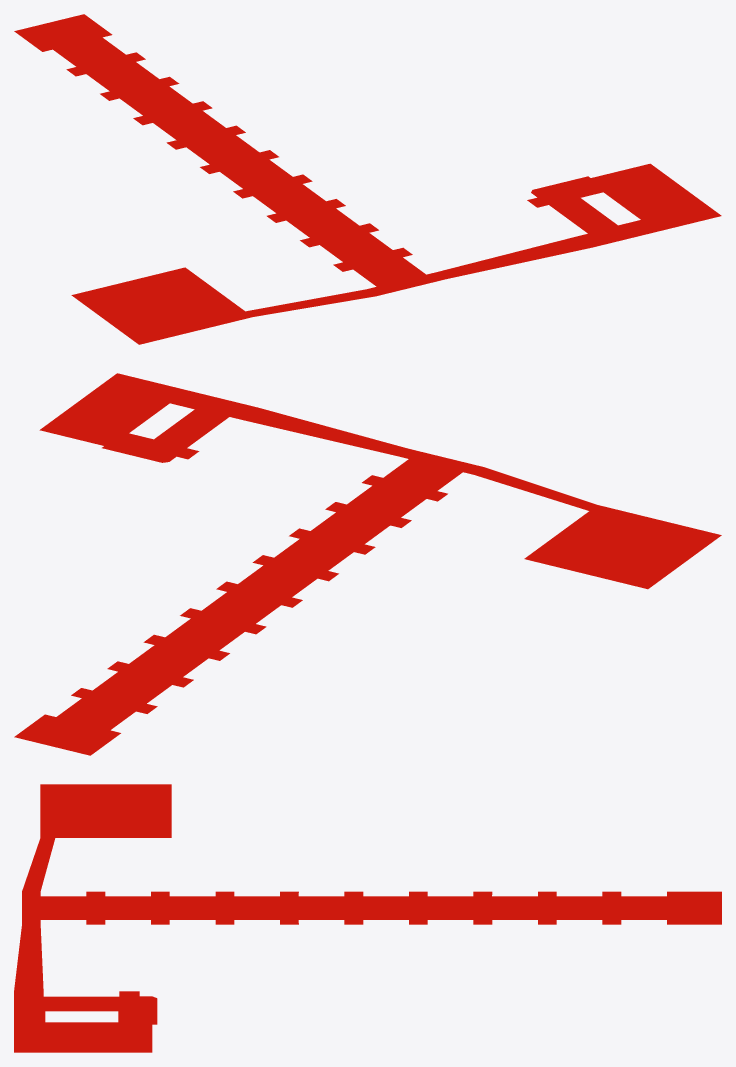
Rendered from bNavMesh.glb.
3 renders of one model, top to bottom at view 1: azimuth 30°, elevation 25°; view 2: azimuth 150°, elevation 25°; view 3: azimuth 270°, elevation 25°, orthographic. The views are drawn at different scales.
Visible parts, largest first — view 1: 3D Lab v3.001; view 2: 3D Lab v3.001; view 3: 3D Lab v3.001.
Boxes of the visible parts, x1,y1,x2,y2 form: 3D Lab v3.001: (14,14,721,344); 3D Lab v3.001: (14,373,721,755); 3D Lab v3.001: (14,784,721,1052).
Bounding box in the file's own units: 85.18 × 0.00234 × 94.94.
